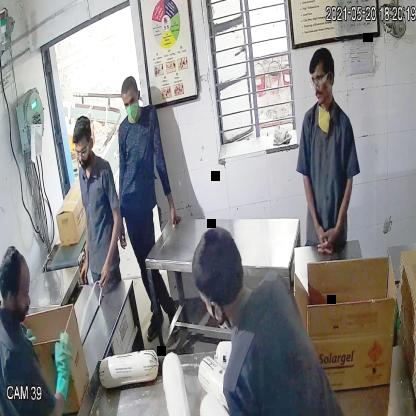goggles: (309, 73, 334, 90), (71, 145, 92, 160)
no_goggles: (121, 94, 138, 107)
